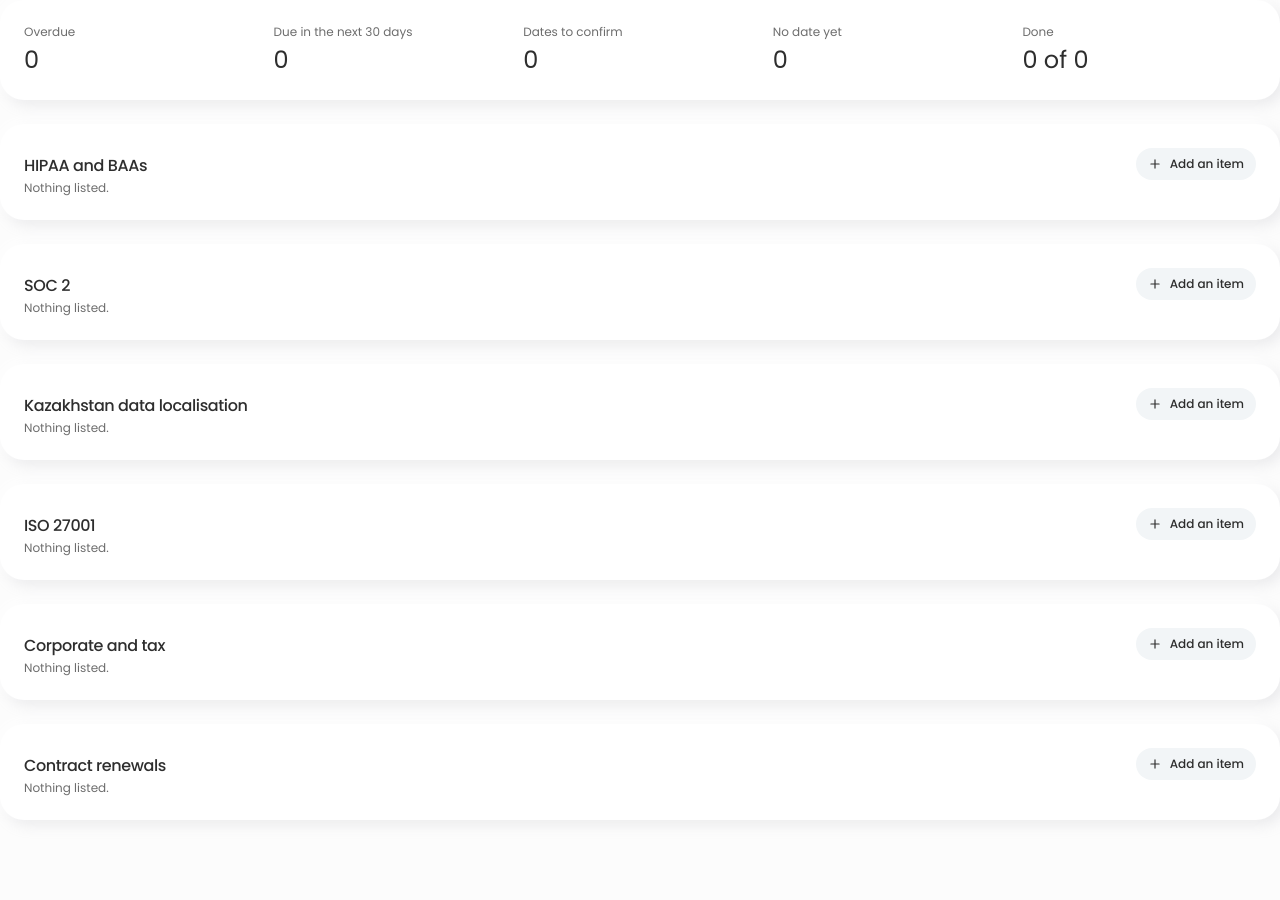
Test: ObligationList: acting on an item › Add an item starts in the category it was pressed in
What coordinates should you click on to do the following:
click the button with aria-label "Add an item to SOC 2"
I would click on:
 (1196, 284)
Its box is [1136,268,1256,300].
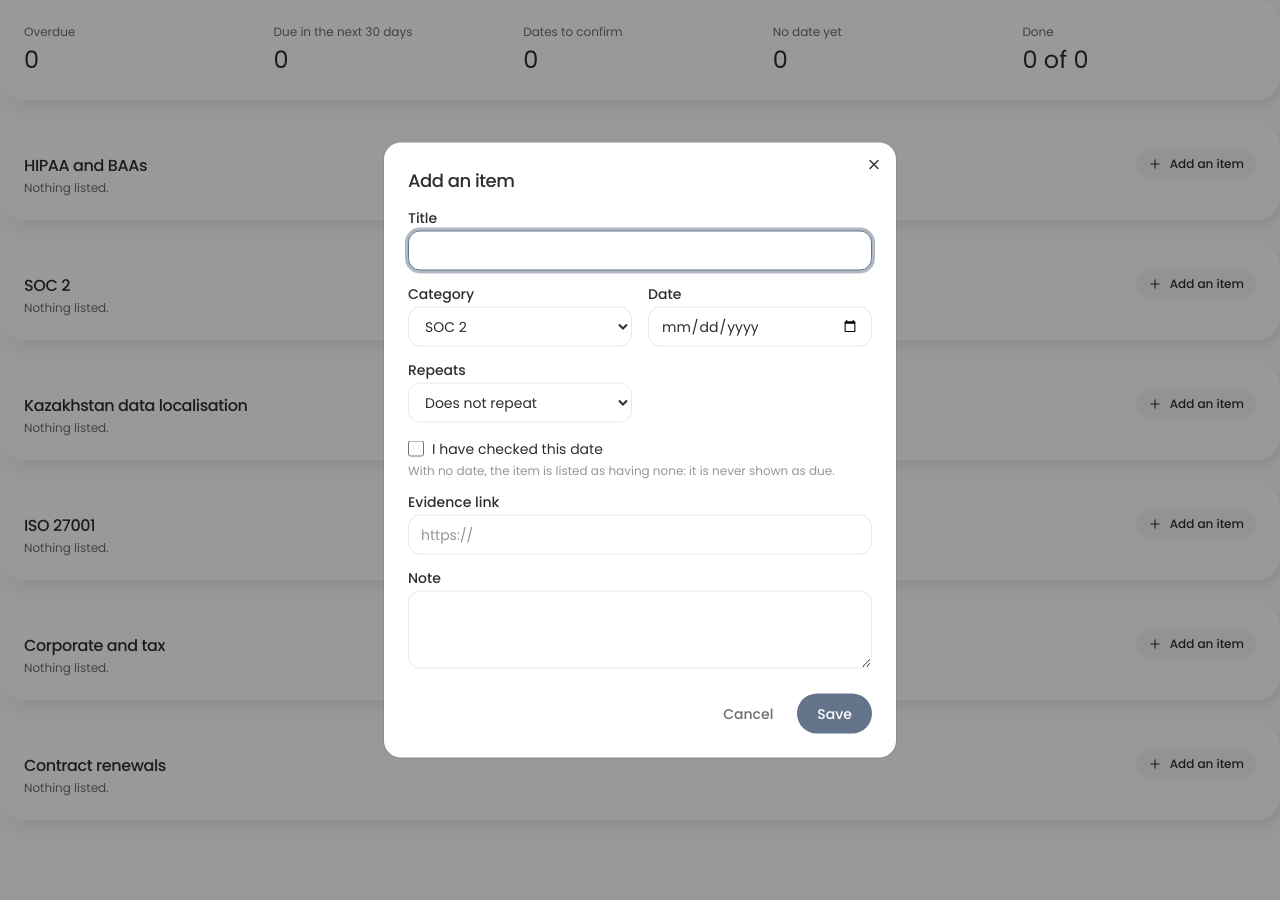
Check: the dropdown labelled "Category" shows "SOC 2", box [408,306,632,346]
